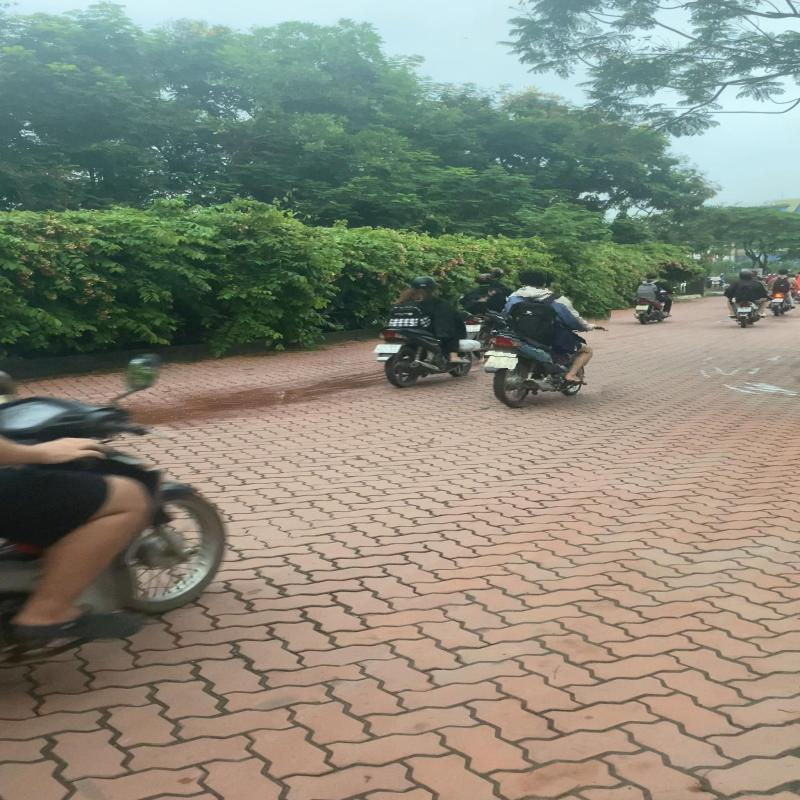licenseplate: (483, 356, 518, 368)
motorcyclist: (478, 266, 611, 412)
nohelmet: (514, 268, 546, 290)
